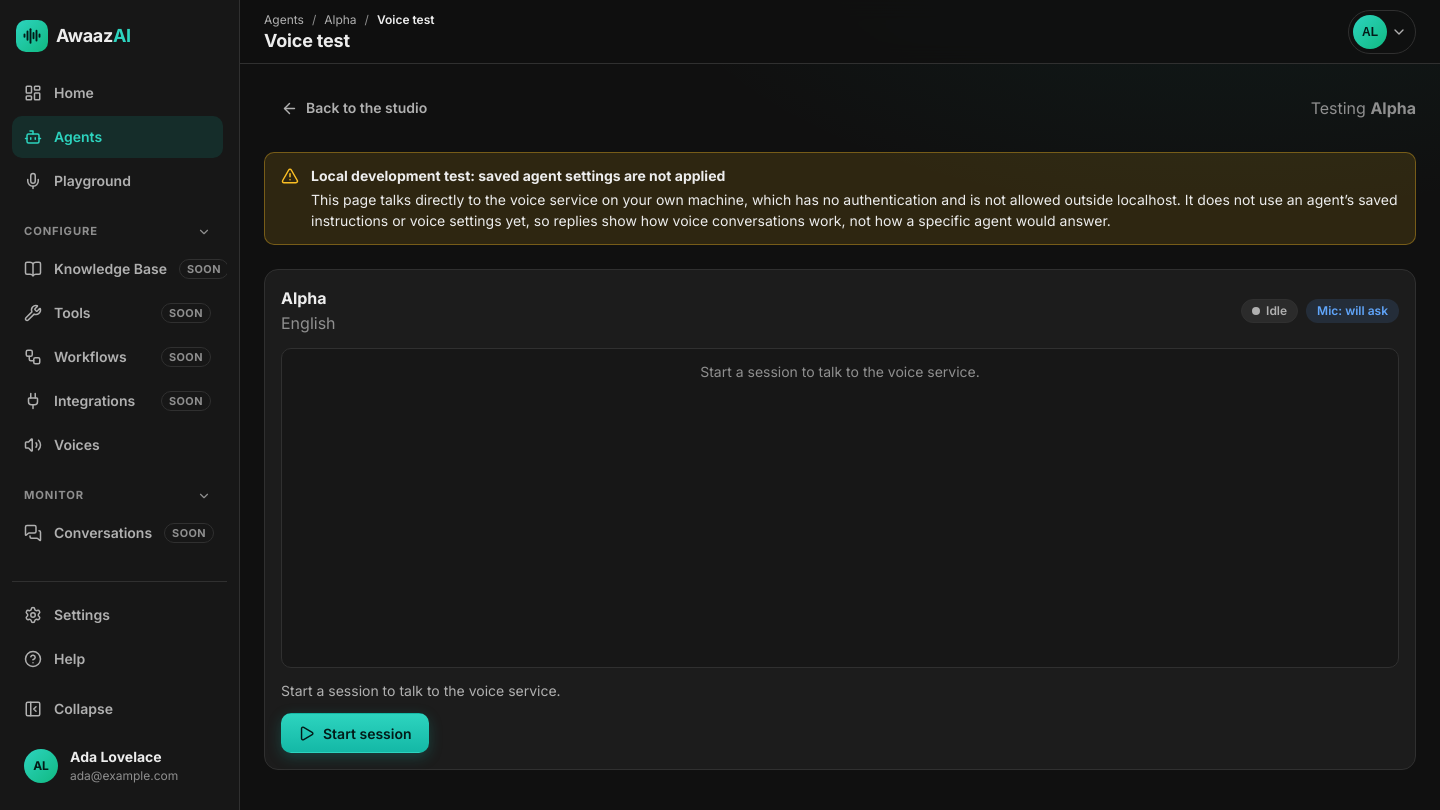
live playground › starting a session shows Ready with the controls, still without connecting
Click the button "Start session".
click(355, 733)  # box [281,713,428,753]
(page scrolled)
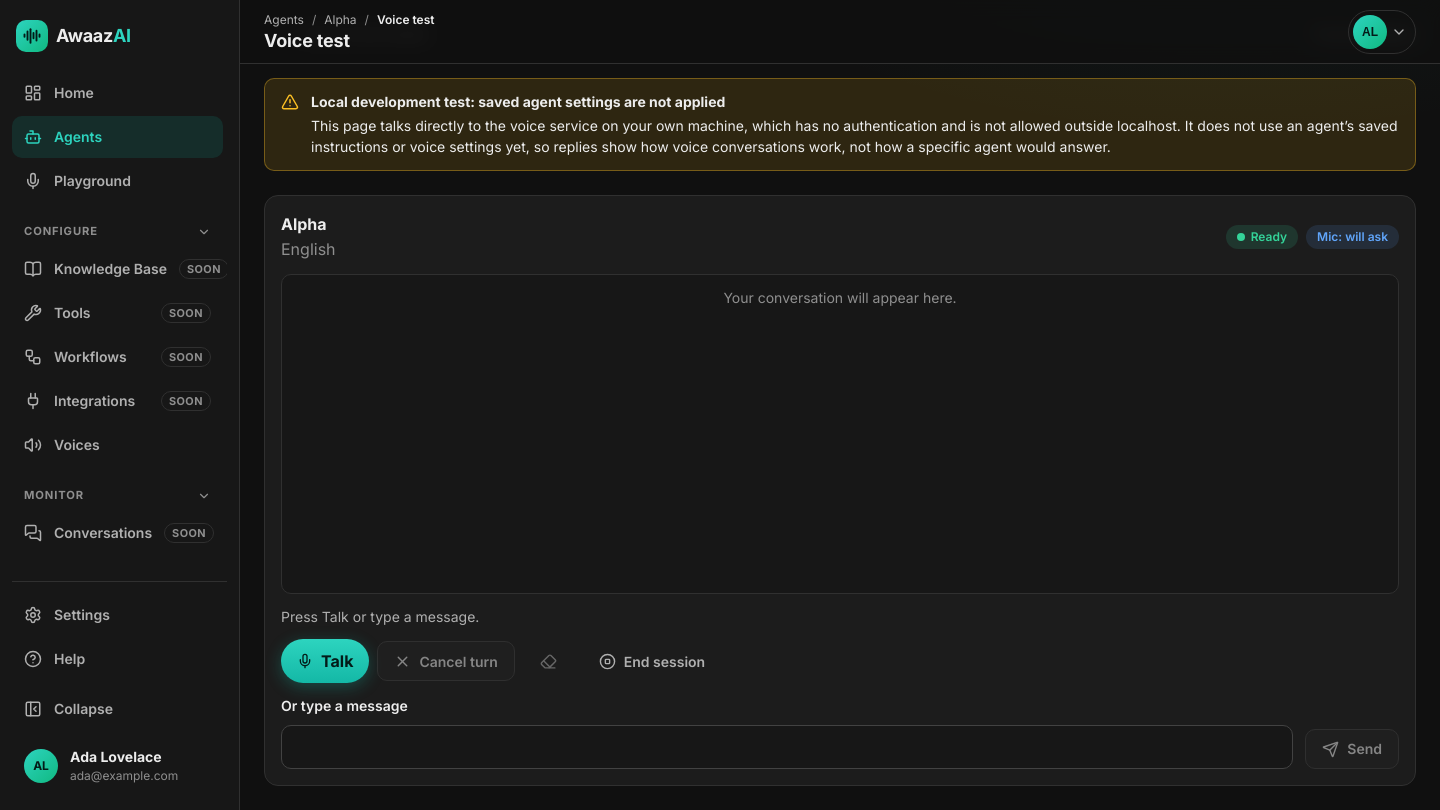
Expected: the text "Ready" is shown, [1226,225,1298,249]
Expected: the button "End session" is shown, [582,641,722,681]
Expected: the field labelled "Or type a message" is shown, [281,725,1293,769]
